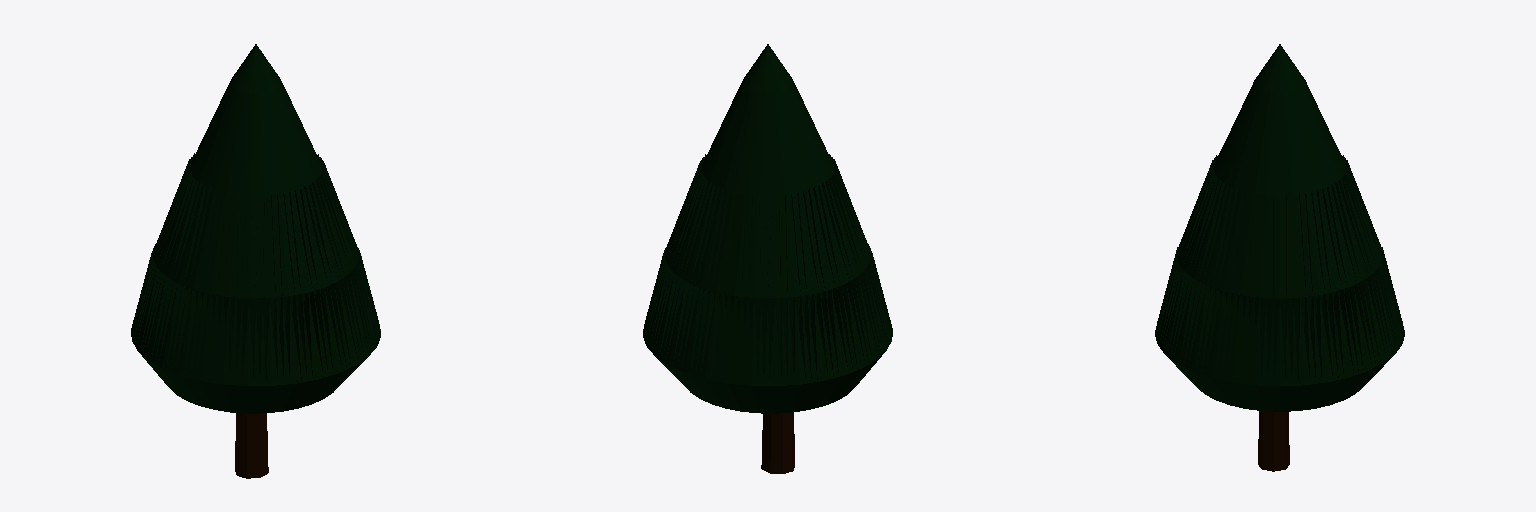
The model's file is tree3.obj.
3 views of the same model, side by side, from view 1: azimuth 30°, elevation 25°; view 2: azimuth 150°, elevation 25°; view 3: azimuth 270°, elevation 25° (orthographic).
Parts seen in each view (by area): view 1: Cube; view 2: Cube; view 3: Cube.
Boxes of the visible parts, <box> form: Cube: <box>131,44,380,478</box>; Cube: <box>643,44,892,473</box>; Cube: <box>1155,44,1404,471</box>.
Size of the model in its own units: 1.33 by 2.49 by 1.33.